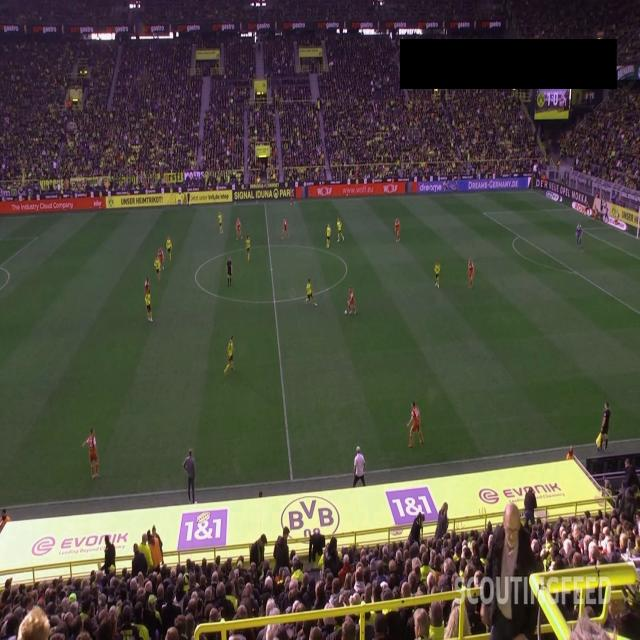ball: (344, 306, 348, 317)
f_player: (76, 426, 105, 484), (406, 396, 426, 457), (222, 331, 237, 386), (142, 292, 156, 334), (160, 236, 177, 268), (302, 280, 318, 314), (431, 256, 443, 296), (466, 258, 476, 300), (574, 218, 584, 260), (347, 284, 358, 320), (152, 257, 164, 289), (392, 218, 404, 250), (336, 217, 346, 253), (280, 216, 290, 252), (156, 246, 166, 276), (324, 222, 332, 258), (245, 233, 253, 267), (142, 278, 150, 310), (217, 212, 225, 242), (235, 216, 243, 246), (290, 183, 296, 210)
umpire: (226, 252, 234, 300)
